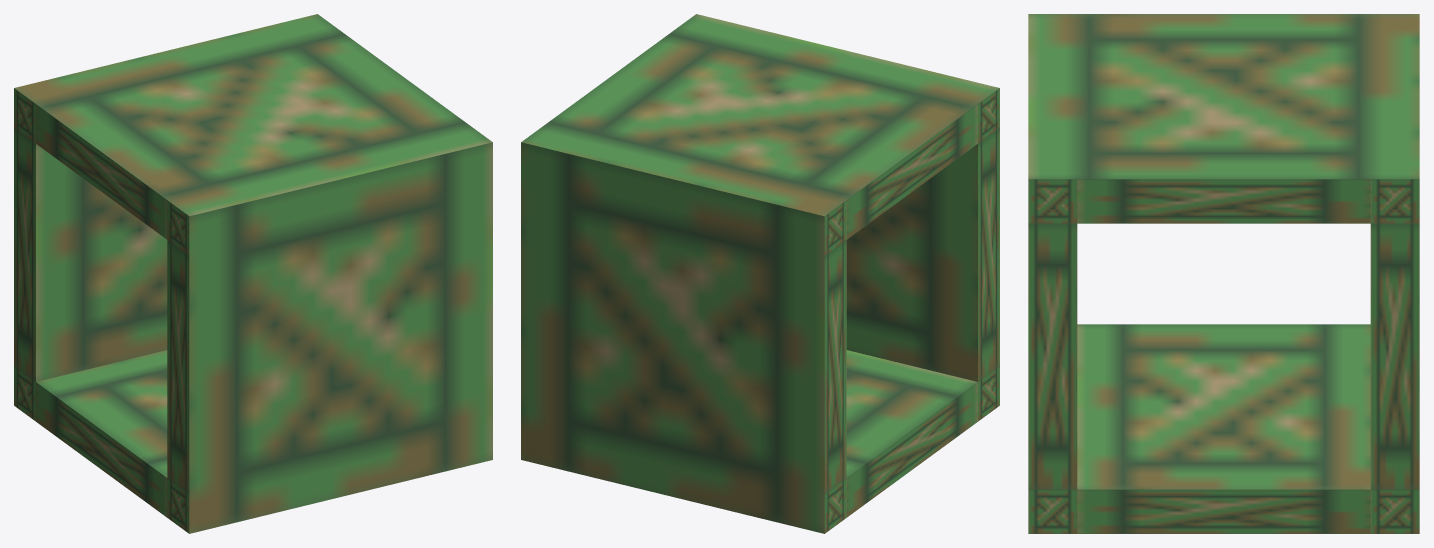
File: hollow-cube-16x16x16.obj
The picture shows the model from 3 angles, left to right: view 1: azimuth 30°, elevation 25°; view 2: azimuth 150°, elevation 25°; view 3: azimuth 270°, elevation 25°; orthographic projection. The views are drawn at different scales.
Parts seen in each view (by area): view 1: Default; view 2: Default; view 3: Default.
Boxes of the visible parts, x1,y1,x2,y2 form: Default: (14,14,492,533); Default: (521,14,999,533); Default: (1028,14,1419,533).
Bounding box in the file's own units: 1 × 1 × 1.
